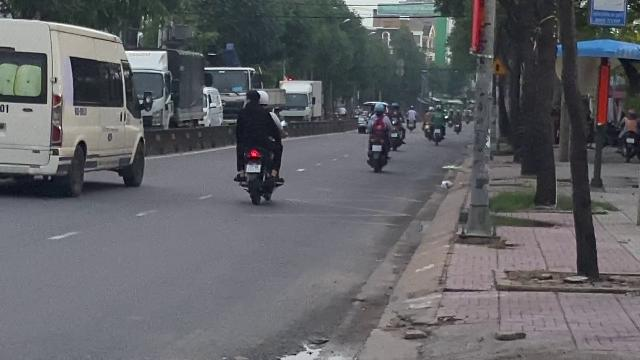helmet: (258, 89, 270, 104)
licenseplate: (246, 164, 262, 172)
motorcyclist: (230, 88, 286, 204)
nohelmet: (244, 89, 260, 105)
